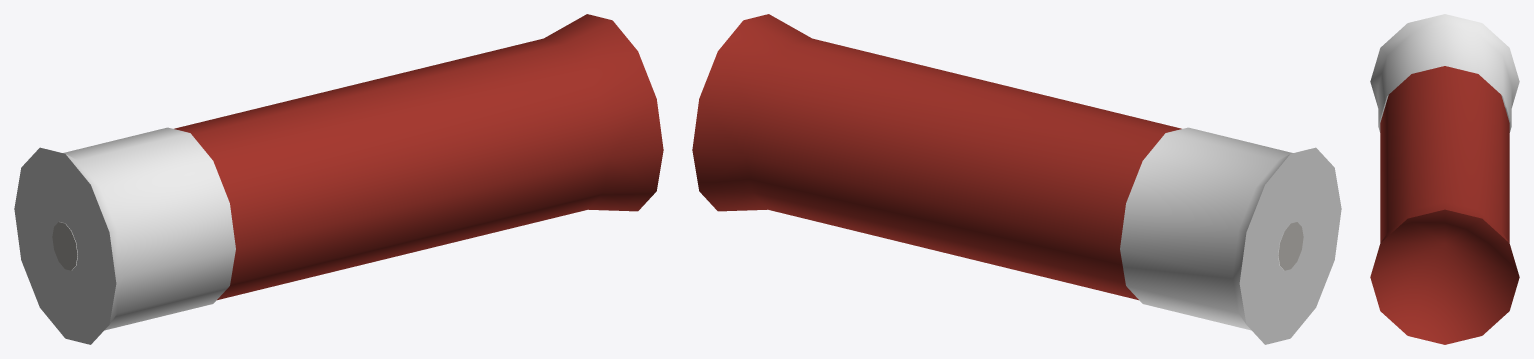
File: Shotgun_Case.fbx
The picture shows the model from 3 angles, left to right: view 1: azimuth 30°, elevation 25°; view 2: azimuth 150°, elevation 25°; view 3: azimuth 270°, elevation 25°; orthographic projection. The views are drawn at different scales.
Parts seen in each view (by area): view 1: Shotgun_Case; view 2: Shotgun_Case; view 3: Shotgun_Case.
Part boxes in pixels (left/top/right/bottom): Shotgun_Case: left=14, top=14, right=663, bottom=344; Shotgun_Case: left=692, top=14, right=1341, bottom=344; Shotgun_Case: left=1370, top=14, right=1519, bottom=344.
Bounding box in the file's own units: 0.0701 × 0.0226 × 0.0226.
